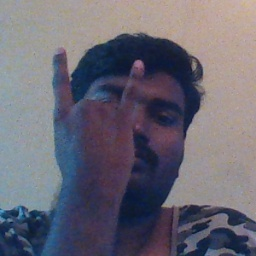V: (43, 44, 155, 188)
